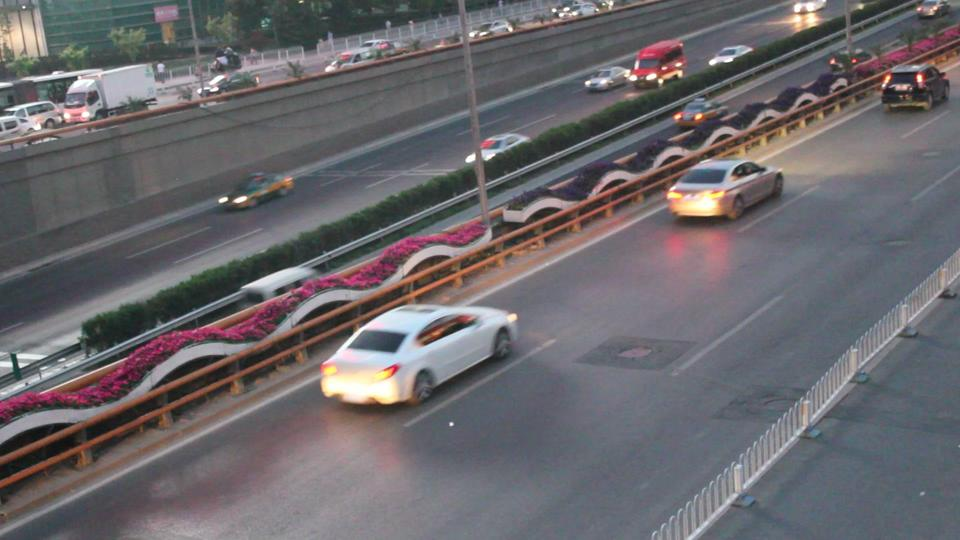Car: (316, 302, 515, 403), (666, 157, 779, 219), (218, 172, 292, 209), (461, 133, 535, 164), (669, 99, 736, 131), (582, 65, 630, 91)
Minivan: (235, 266, 319, 309), (625, 41, 685, 88)
